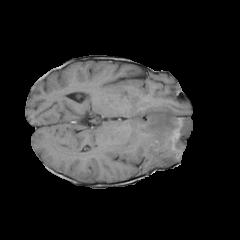glioma: (131, 108, 192, 166)
